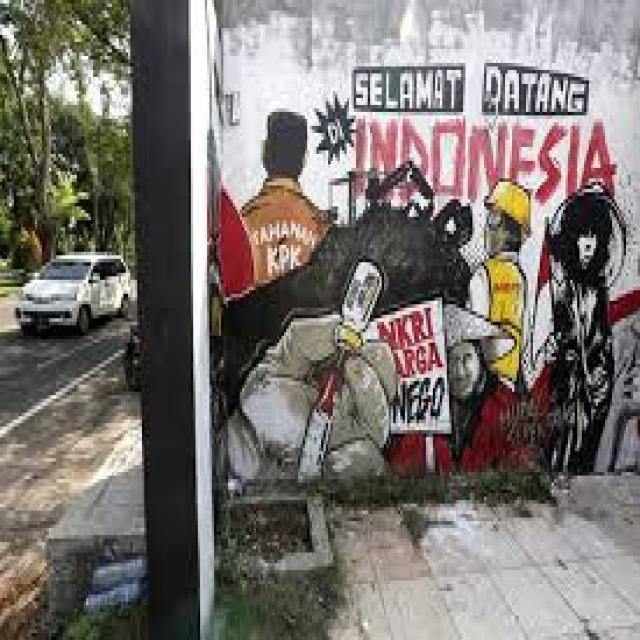-: (221, 63, 640, 472)
